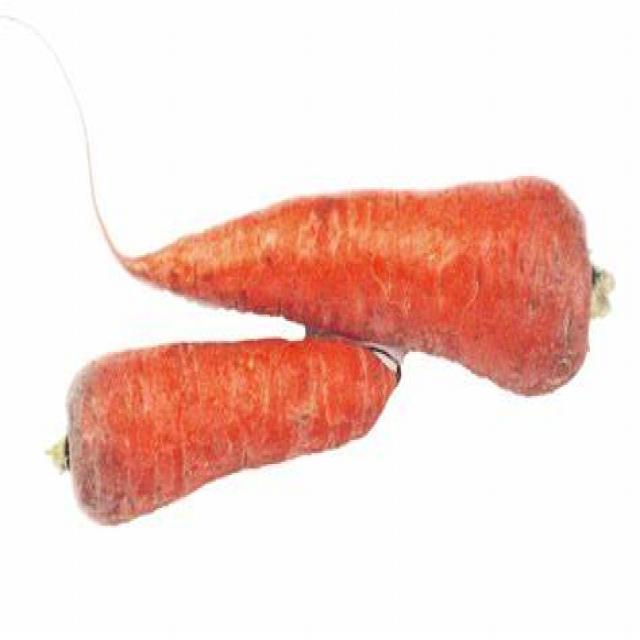Carrot: (117, 179, 593, 395), (63, 339, 404, 532)
